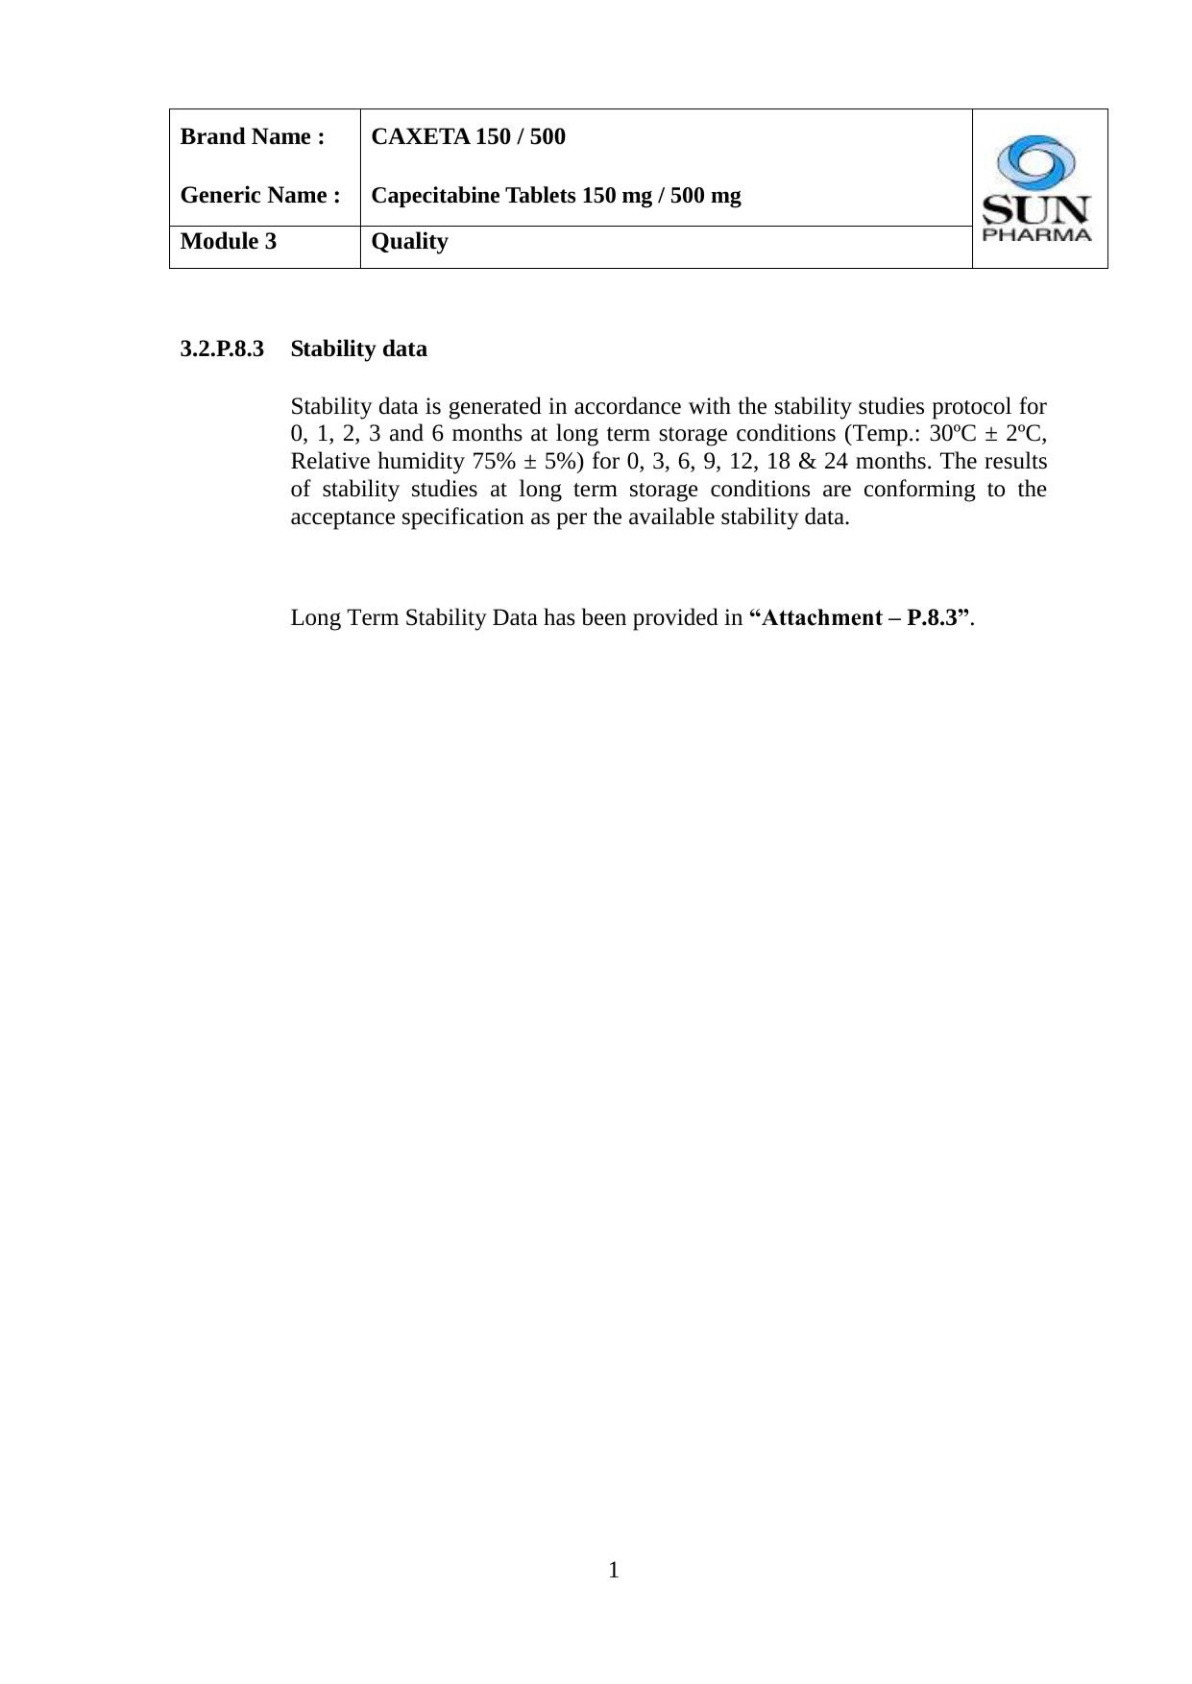merged_cells: (168, 107, 1109, 269)
